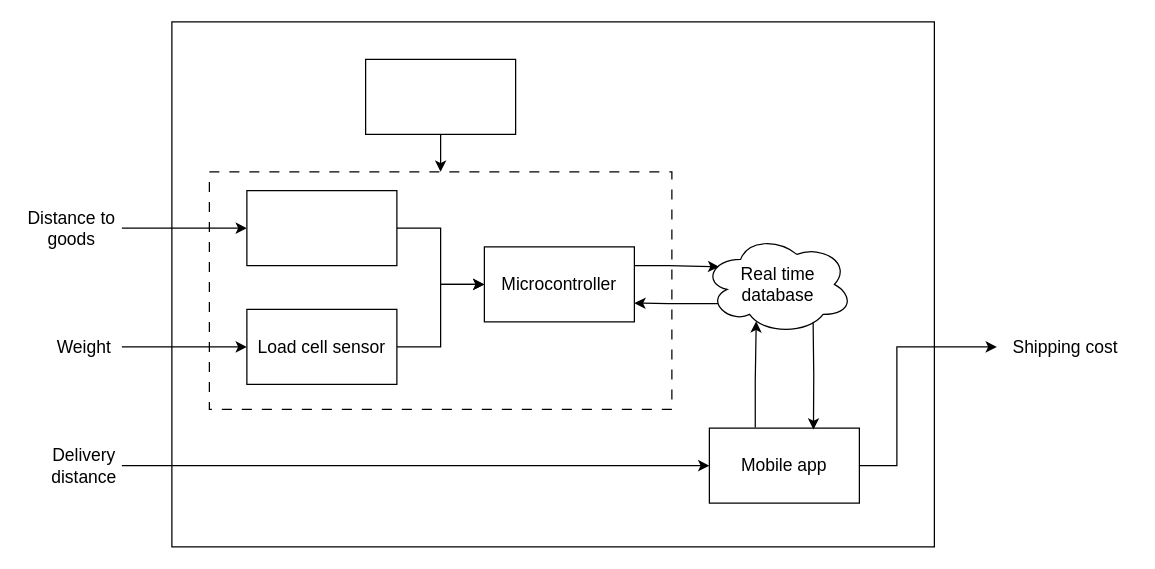
Some shapes in this 1155 by 569 pixel diagram are drawn without their labels. The shapes that lost their labels are listed below. From the top down, each one's centre as x and y in pixels, then its label:
At [440,96]: "Power supply".
At [321,227]: "Ultrasonic sensors".
